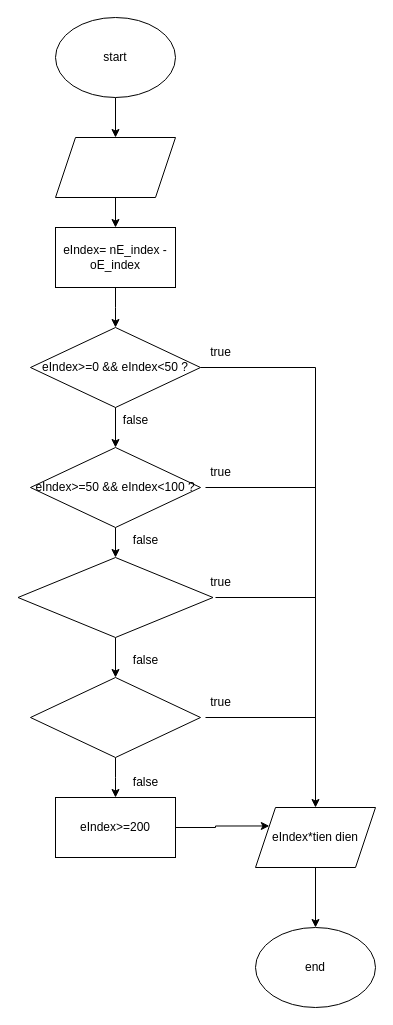
The diagram is 393 pixels wide and 1025 high, and some of its shapes have lost their labels. Each missing label, with the centre of its shape:
eIndex>= 100&& eIndex<150 ?: the point at 115,597
eIndex>=150 && eIndex< ?: the point at 115,717
nE_index oE_index: the point at 115,167
